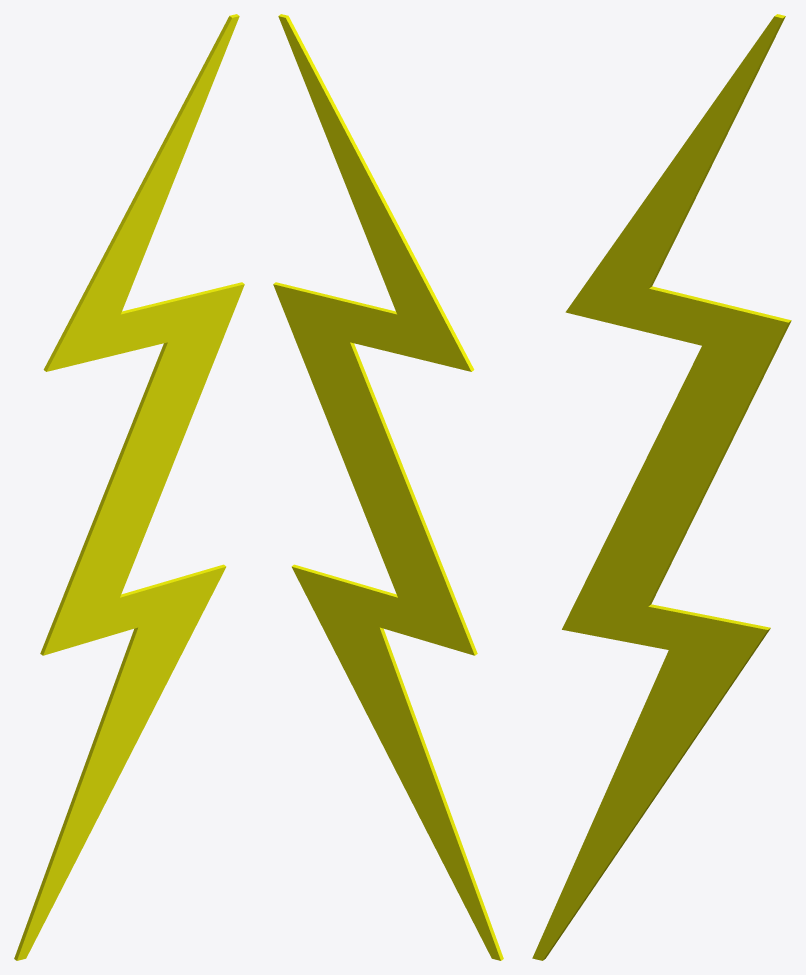
File: scene_ByFR5TIbxF.glb
3 views of the same model, side by side, from view 1: azimuth 30°, elevation 25°; view 2: azimuth 150°, elevation 25°; view 3: azimuth 330°, elevation 25° (orthographic). The views are drawn at different scales.
Parts seen in each view (by area): view 1: Node; view 2: Node; view 3: Node.
Boxes of the visible parts, bbox=[...] form: Node: bbox=[14, 14, 244, 960]; Node: bbox=[273, 14, 503, 960]; Node: bbox=[532, 14, 791, 960].
Bounding box in the file's own units: 1.42 × 5.32 × 0.0309.
